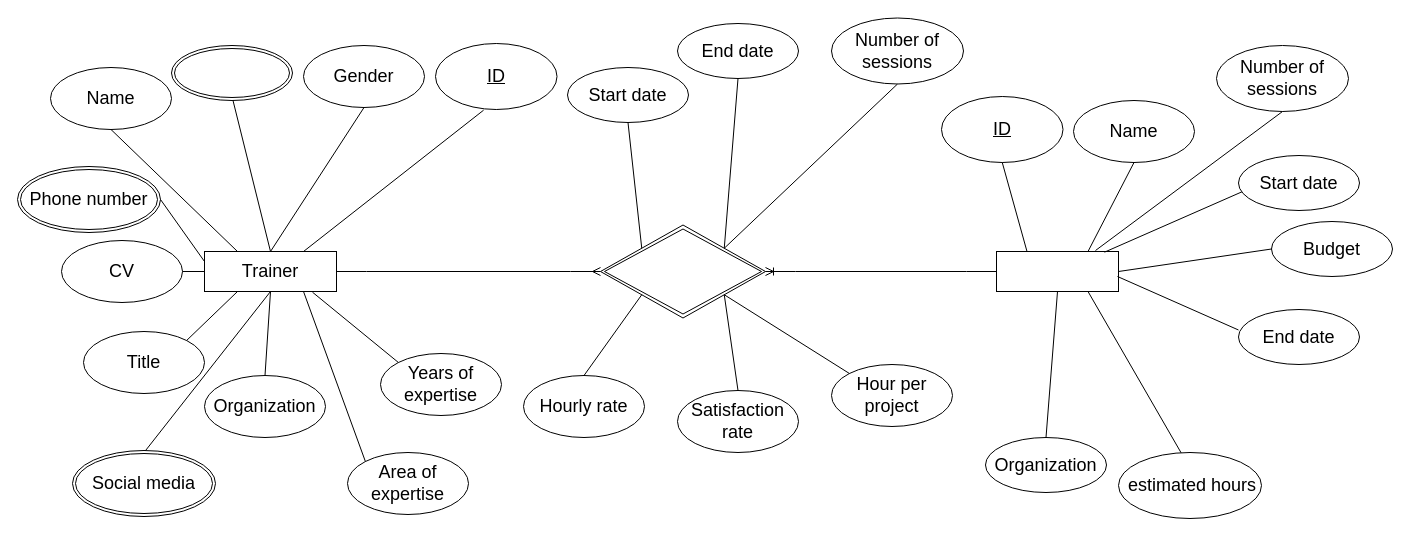
Image size: 1410x536. Some labels were removed from this diagram. The centre of each missing label's shape, as x and y in pixels:
"Email" belongs at (x=231, y=72).
"Project" belongs at (x=1057, y=271).
"Work" belongs at (x=683, y=271).
